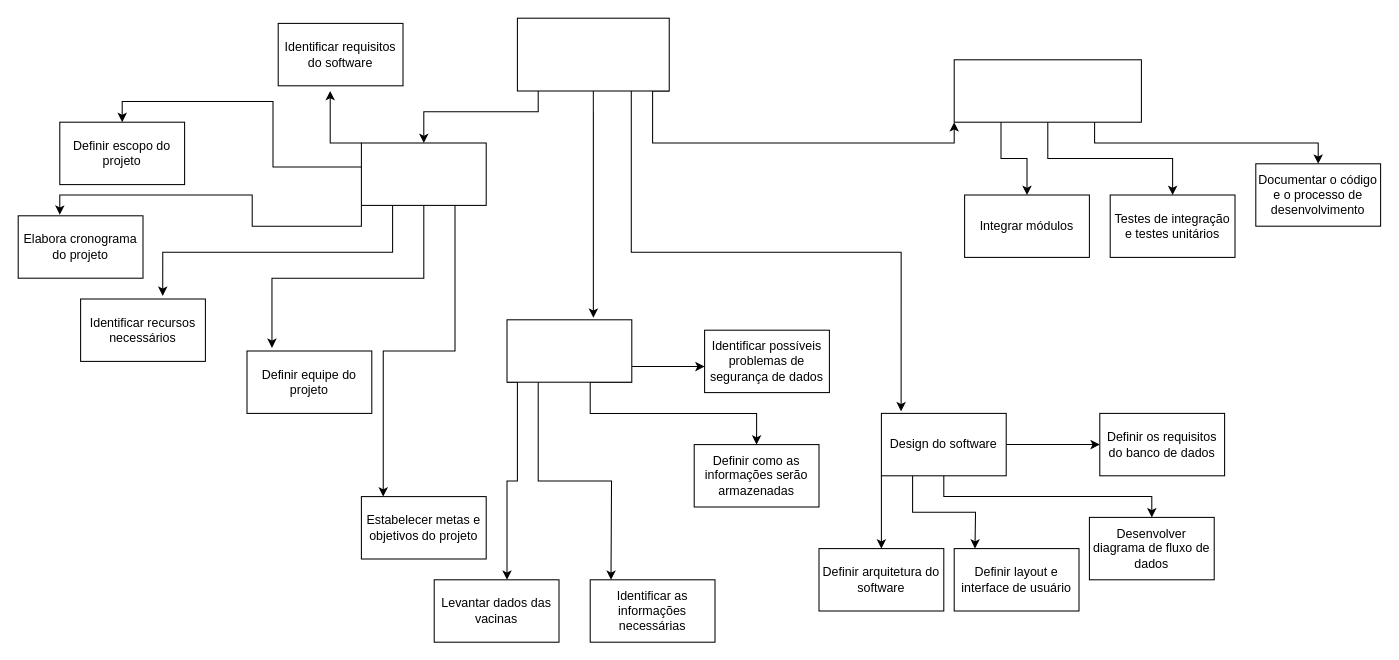
Image size: 1399x660. Some labels were removed from this diagram. Here are the shapes that lost their labels. From the top down, the centre of each, then its label:
the point at 592,54: Projeto de software para controle de vacinação
the point at 1047,90: Desenvolvimento do Software
the point at 423,173: Planejamento
the point at 569,350: Análise de Requisitos
